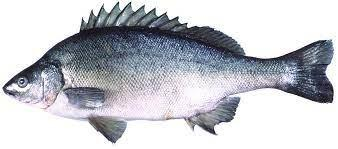Silver Perch: (2, 1, 338, 143)
